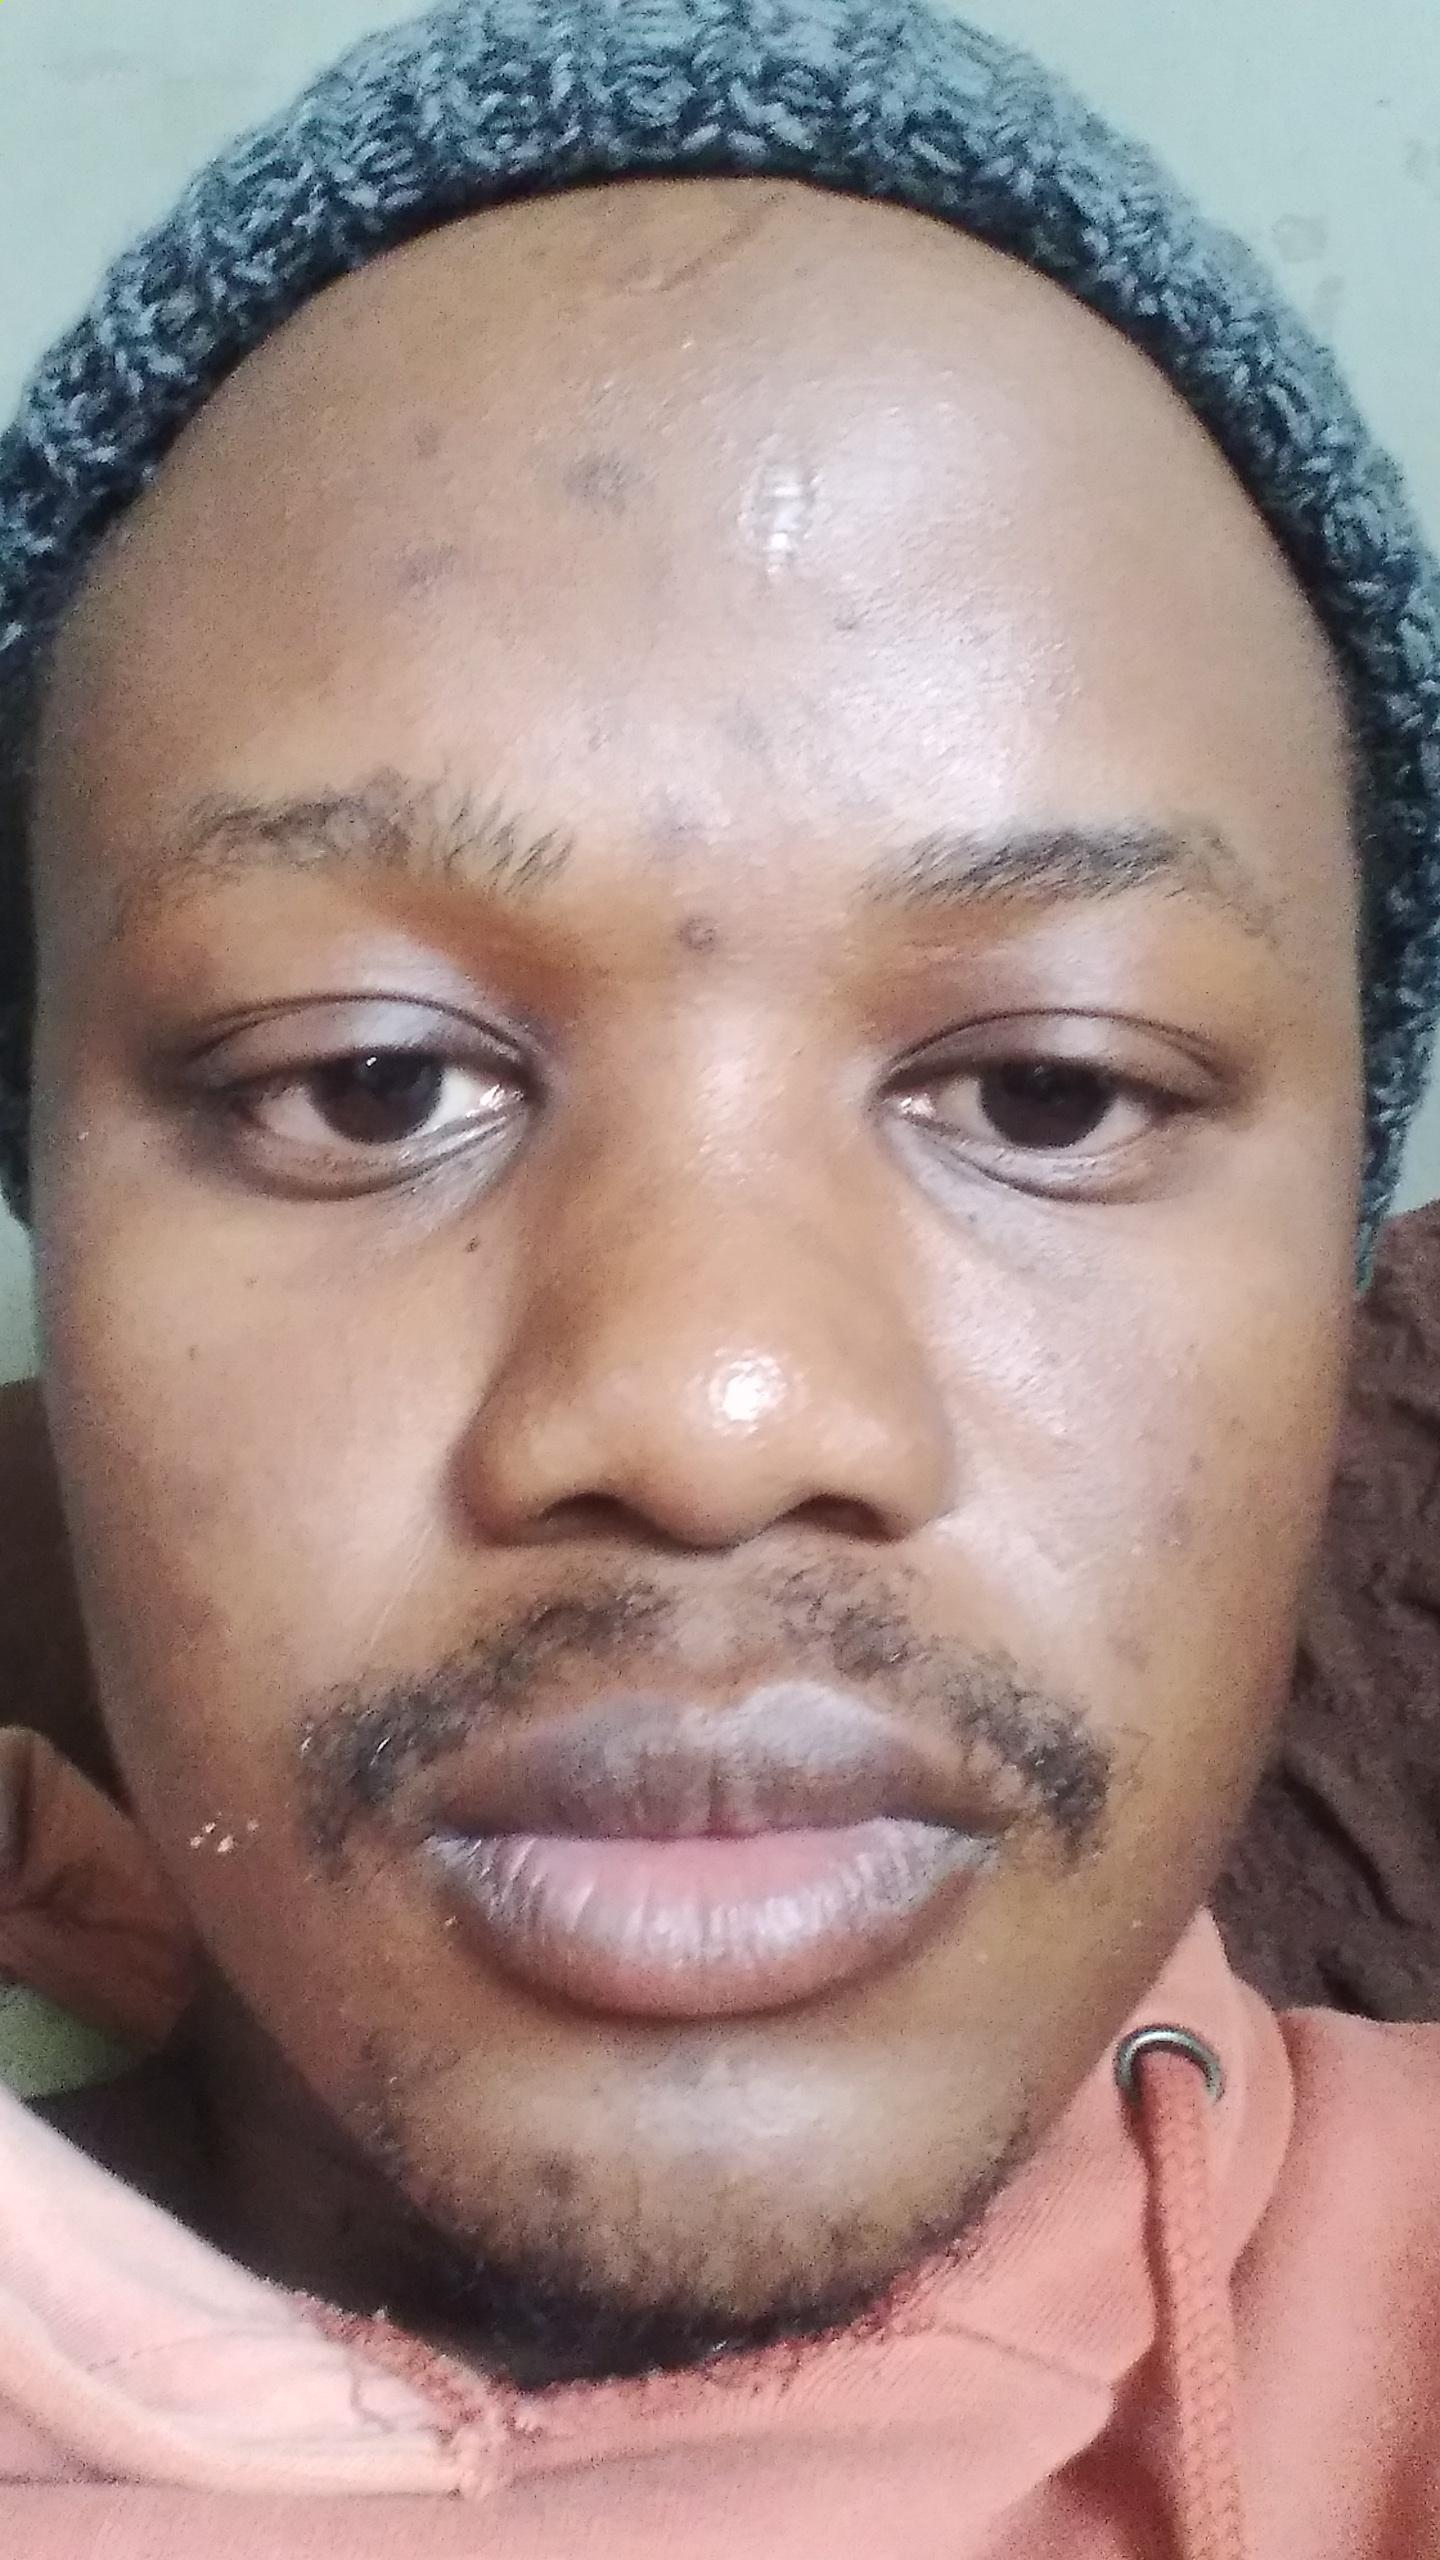Acne: (554, 443, 651, 524), (642, 784, 728, 874), (709, 696, 784, 781), (371, 540, 459, 608), (531, 2145, 582, 2214), (1150, 1486, 1197, 1558), (666, 904, 724, 962), (397, 415, 448, 478), (1044, 1410, 1087, 1459), (1178, 1438, 1206, 1477), (1222, 1400, 1248, 1435)
Eyebags: (153, 1083, 554, 1247), (865, 1102, 1225, 1282)
